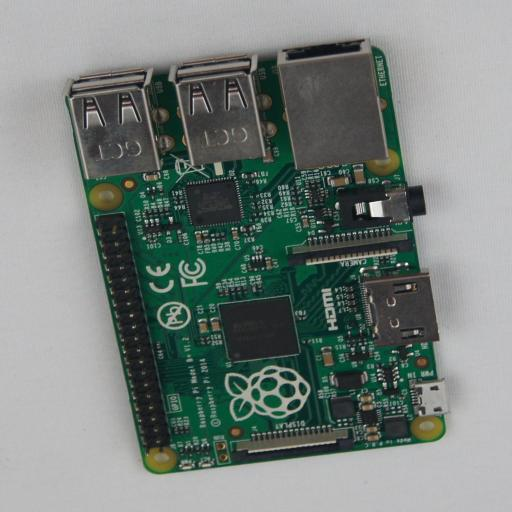Raspberry Pi 1 B-: (65, 39, 446, 474)
